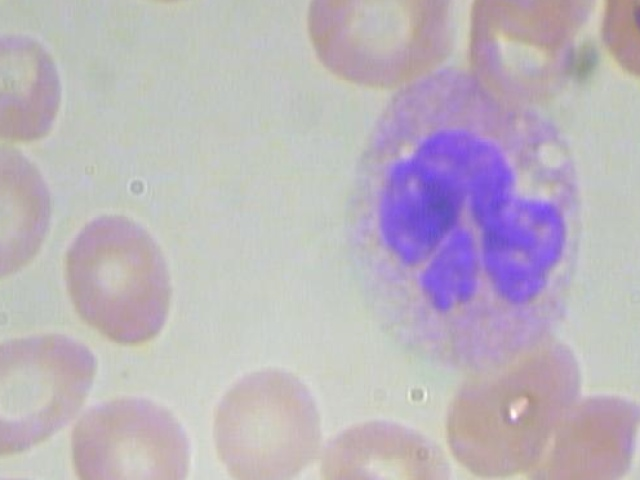RBC: (55, 200, 193, 354), (286, 0, 465, 102), (211, 347, 327, 480), (63, 386, 211, 480), (0, 326, 100, 462), (0, 22, 95, 150), (315, 410, 474, 480), (0, 133, 66, 291), (0, 476, 75, 480)
WBC: (326, 55, 620, 382)
